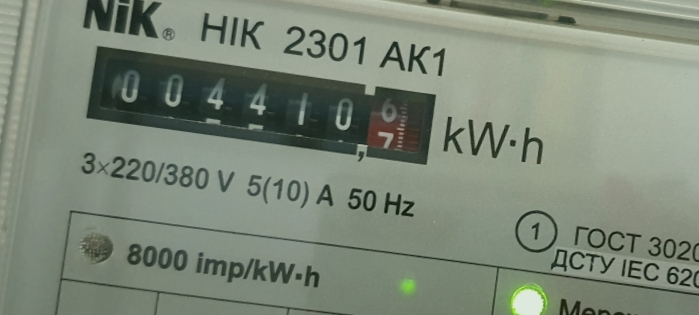0: (116, 64, 143, 105), (331, 94, 356, 132), (162, 69, 184, 109)
1: (292, 88, 311, 127)
4: (245, 78, 272, 119), (203, 71, 229, 111)
6: (380, 95, 400, 123)
7: (374, 128, 395, 149)
screen: (73, 31, 450, 178)
